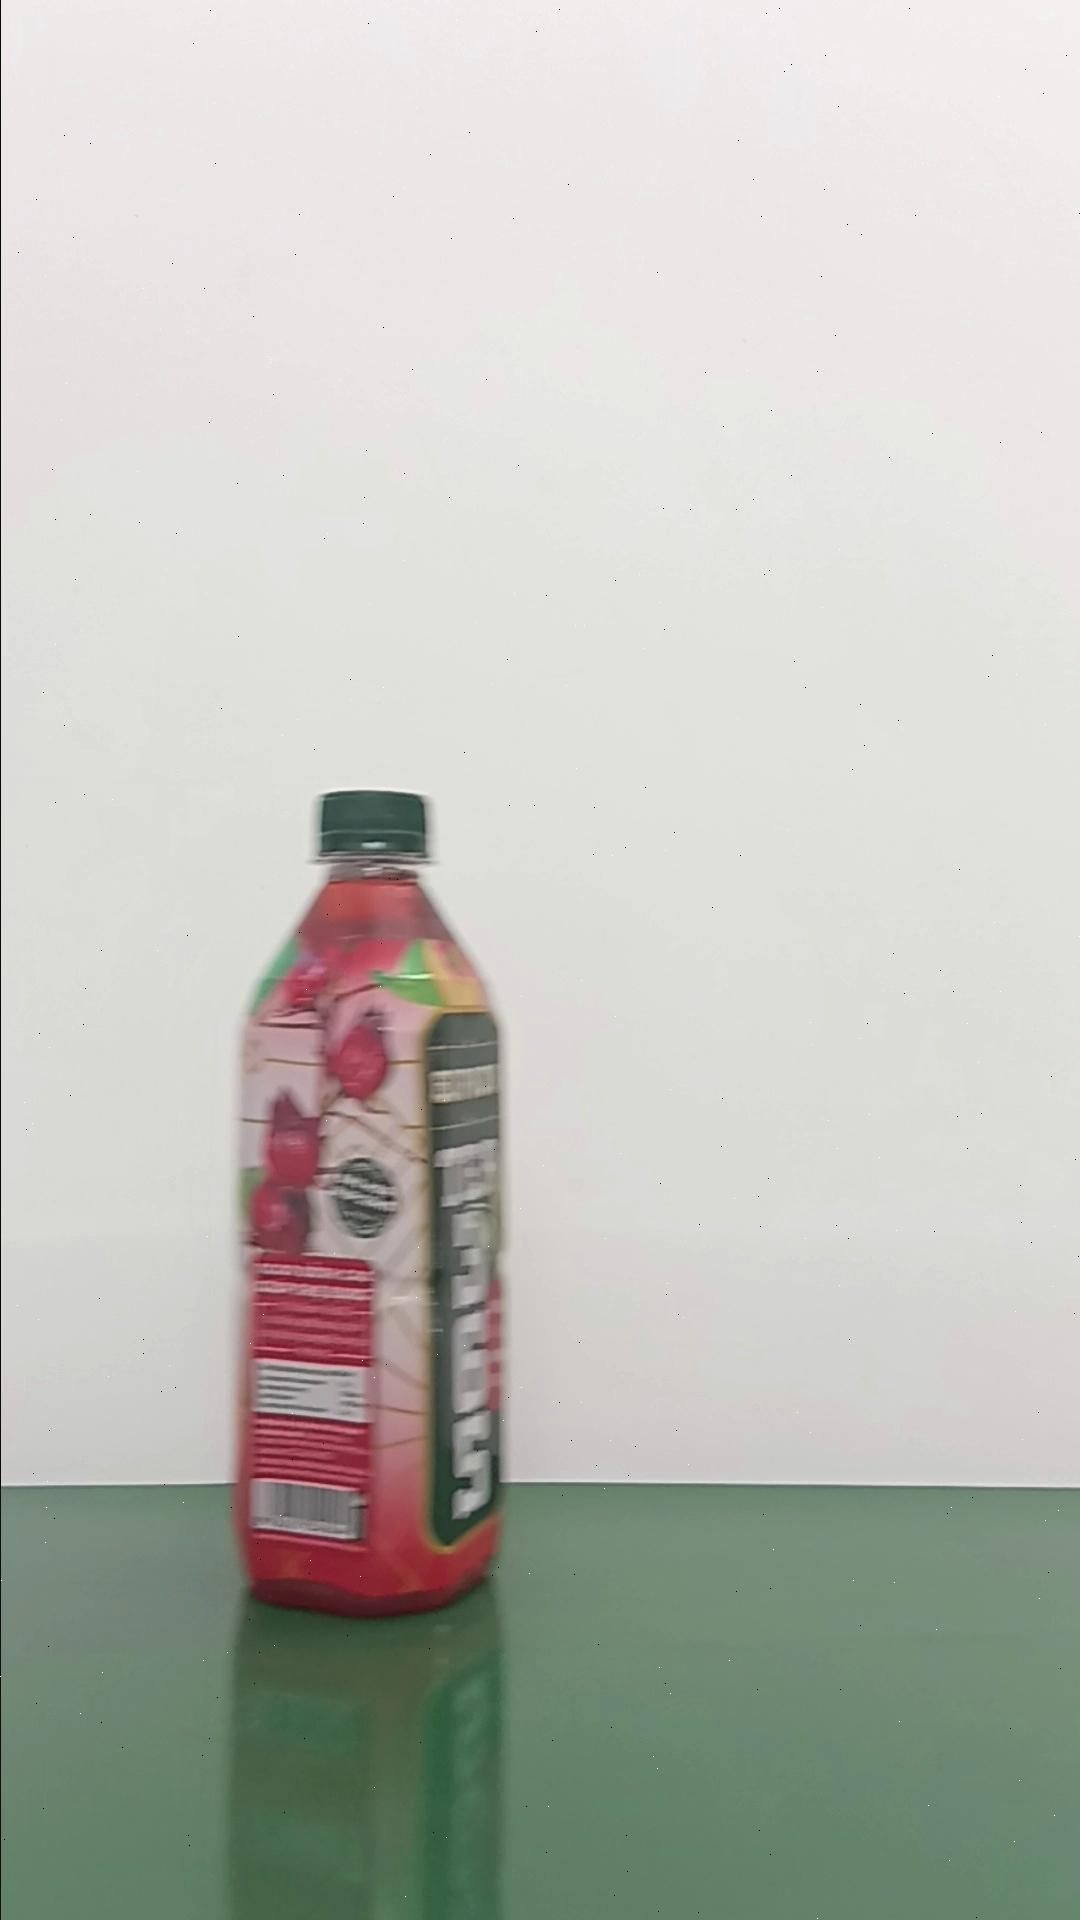khong loi: (229, 786, 508, 1618)
